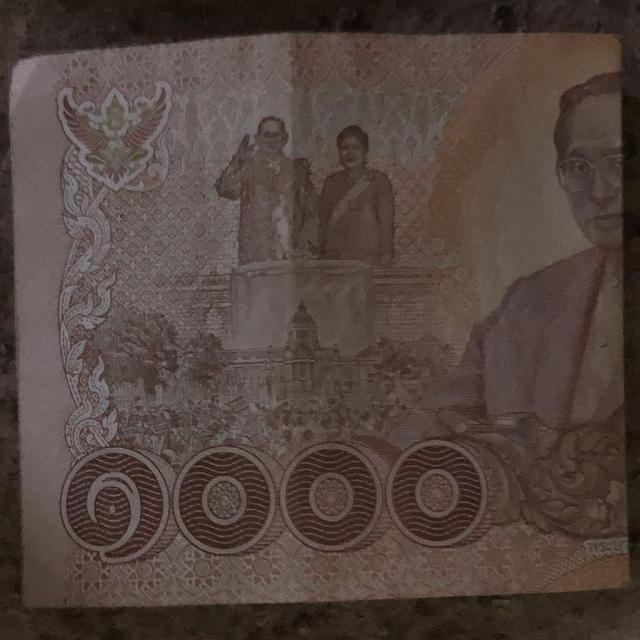THAI1000: (10, 34, 628, 606)
